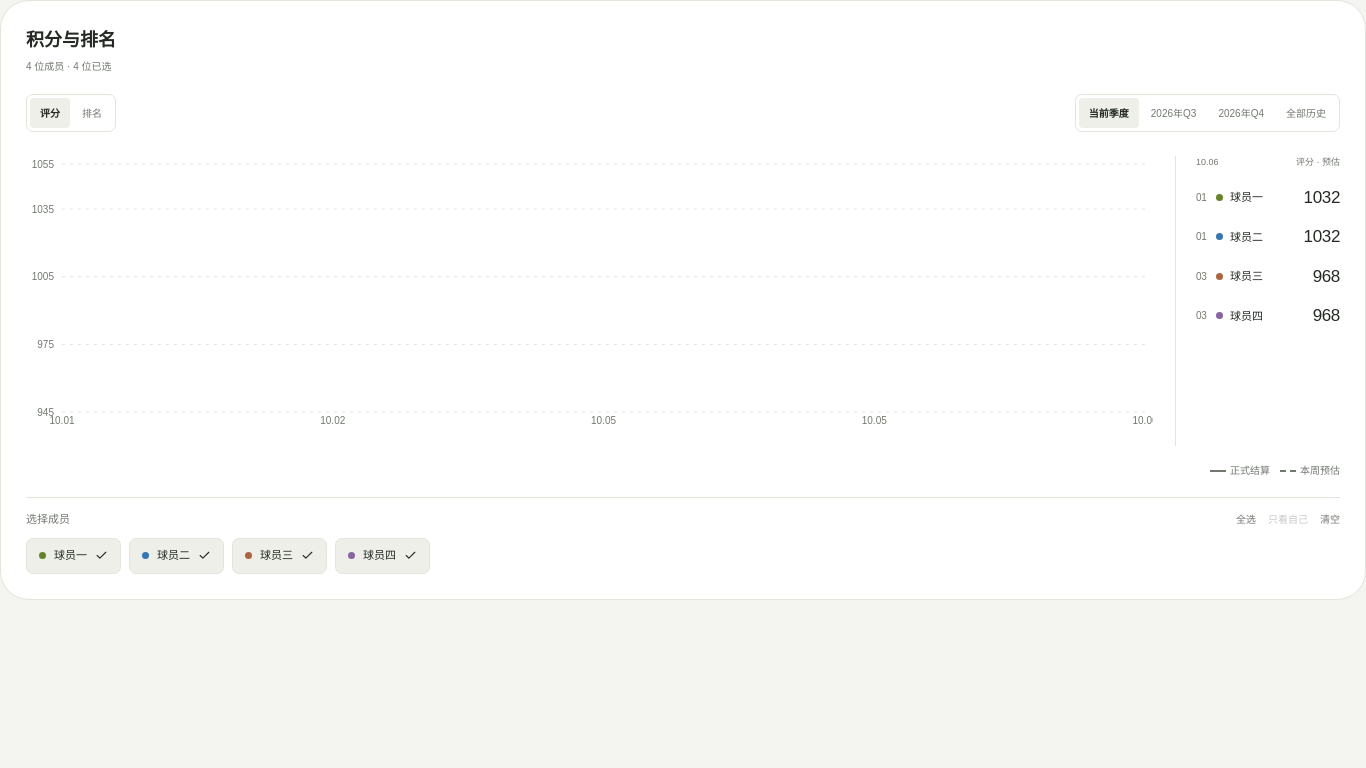
Test: 新版 glicko2 趋势(全量页) › 排名模式切换正常
The image size is (1366, 768).
Click the button "排名" at (92, 113), box left=72, top=98, right=112, bottom=128
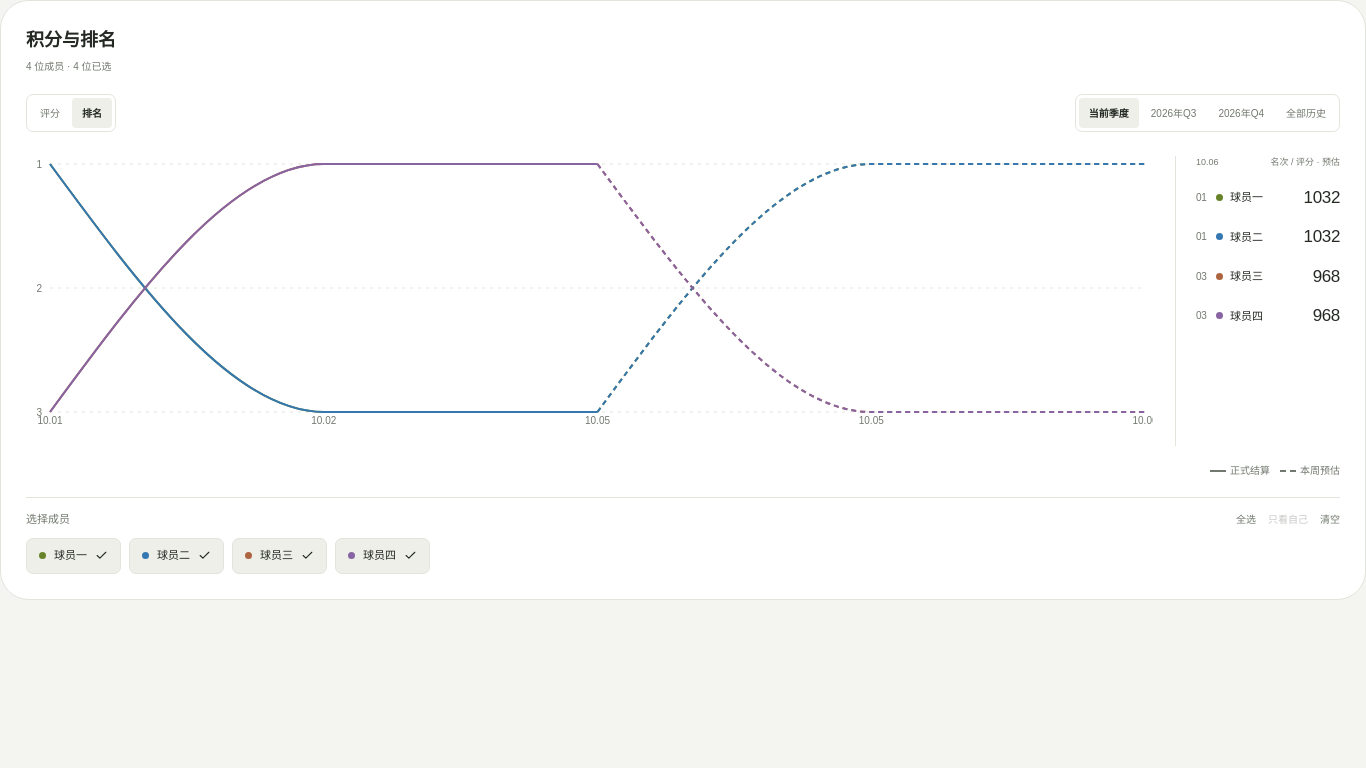
Expected: the element that starts with "名次 / 评分" is shown, left=1175, top=156, right=1340, bottom=446
Expected: the text "名次 / 评分 · 预估" is shown, left=1270, top=156, right=1340, bottom=170
